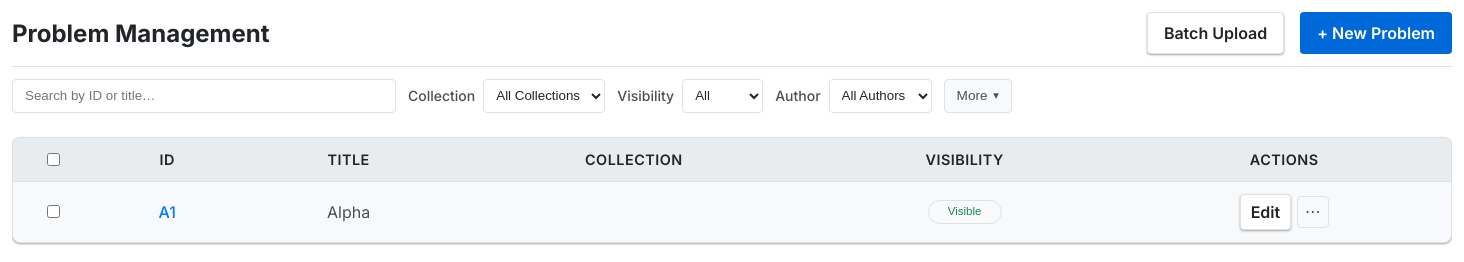
Test: ProblemManagement Component › author filter (server-driven options) › re-queries the server with the author filter when one is chosen
The width and height of the screenshot is (1464, 262).
Expected: the text "Alpha" is shown, x1=241 y1=181 x2=456 y2=242
Step 1. Select "Alice" in the dropdown named "Filter problems by author" → x=880, y=96, box x1=829 y1=79 x2=932 y2=113
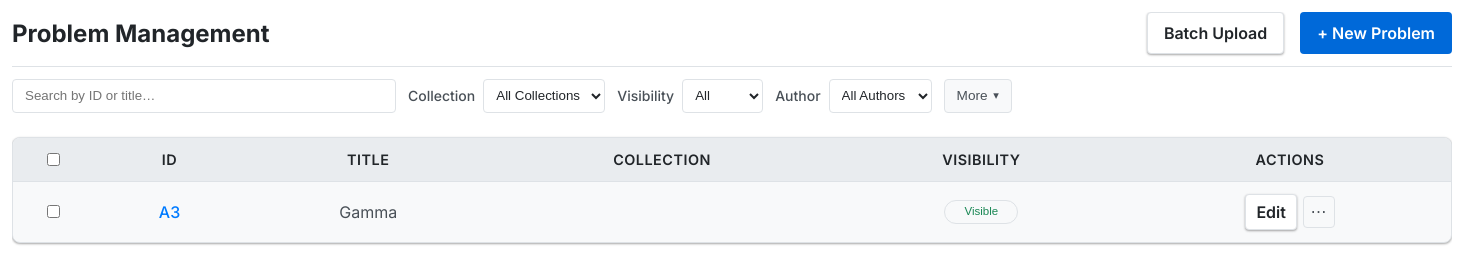
Expected: the text "Gamma" is shown, x1=246 y1=181 x2=490 y2=242
Expected: the text "Alpha" is gone
